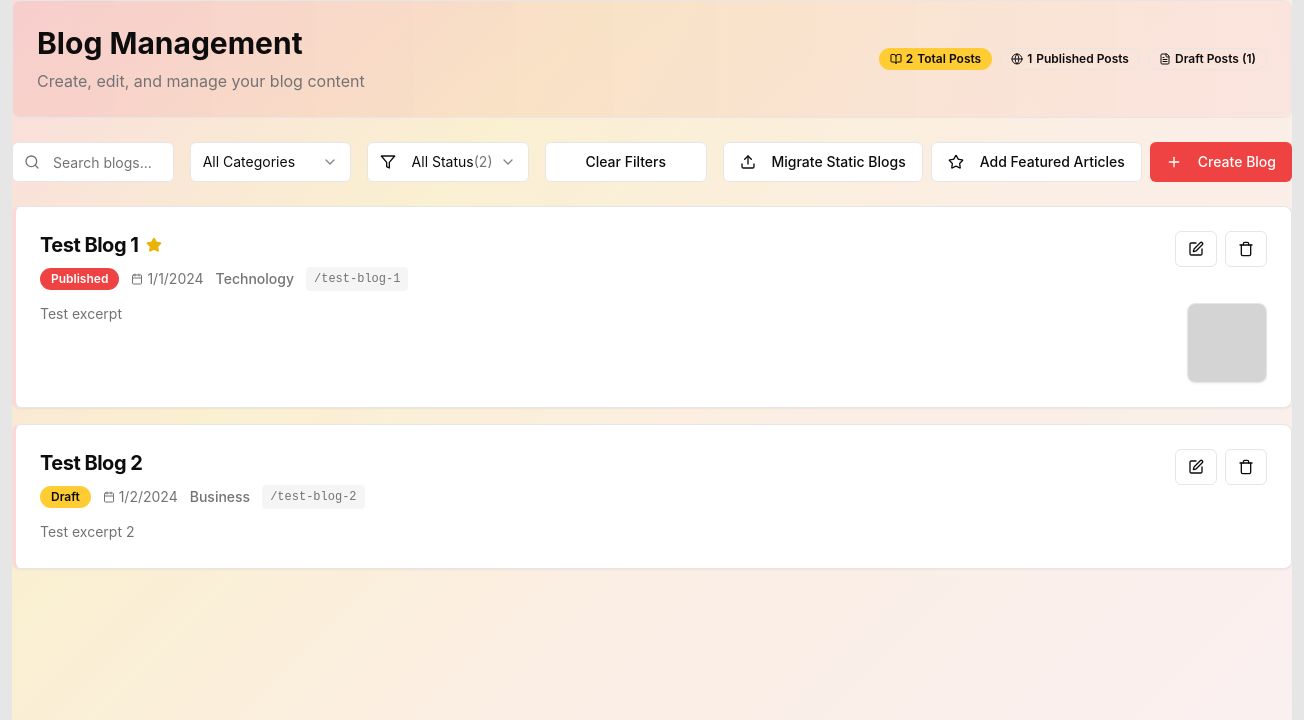
Scenario: BlogManager Component › filters blogs by search term
This screenshot has width=1304, height=720.
Expected: the heading "Test Blog 1" is shown, 40,231 -> 138,259
Expected: the heading "Test Blog 2" is shown, 40,449 -> 142,477
Type "Blog 1" into the field with placeholder "Search blogs..." at (93,162), box 12,142 -> 174,182
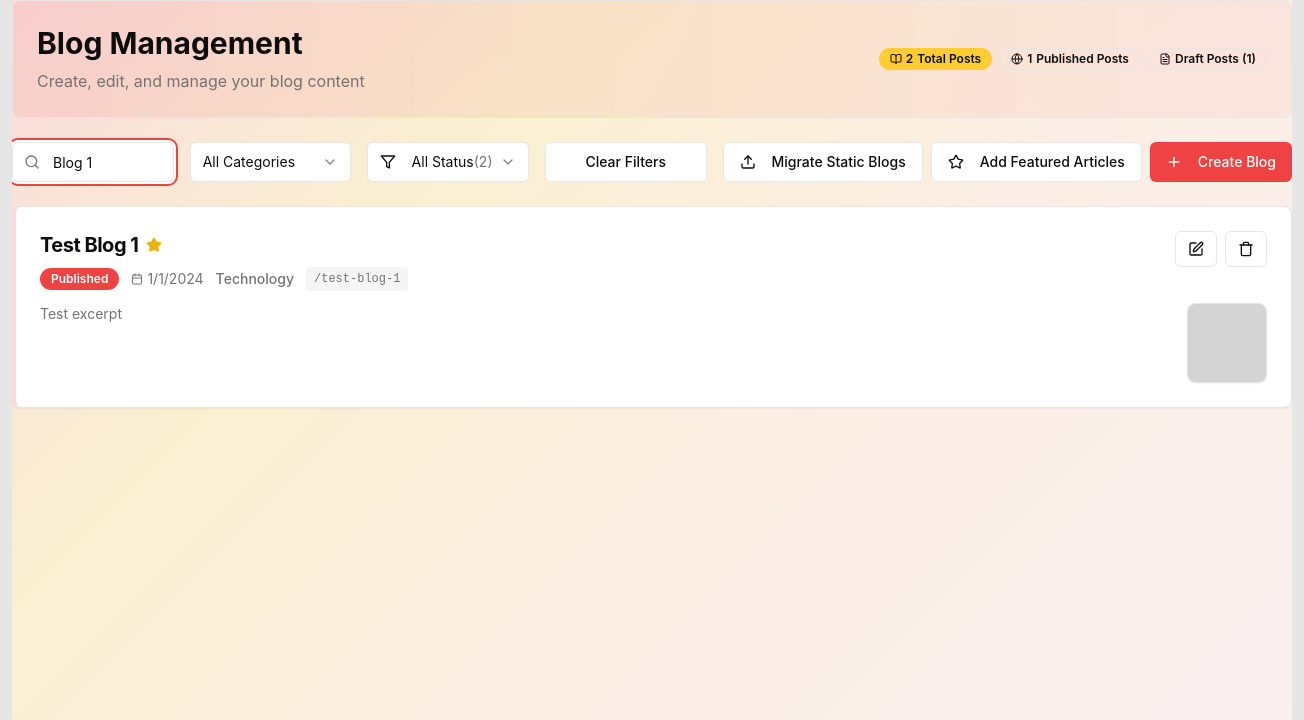
Expected: the heading "Test Blog 1" is shown, 40,231 -> 138,259
Now the heading "Test Blog 2" is gone
